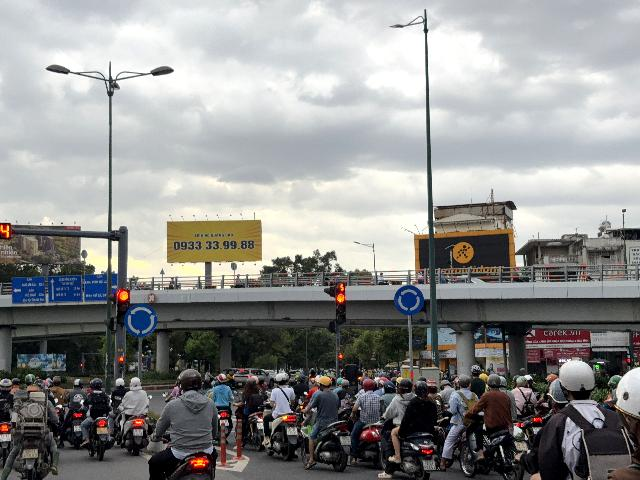noi-giao-nhau-chay-theo-vong-xuyen: (124, 303, 157, 337), (393, 284, 425, 316)
